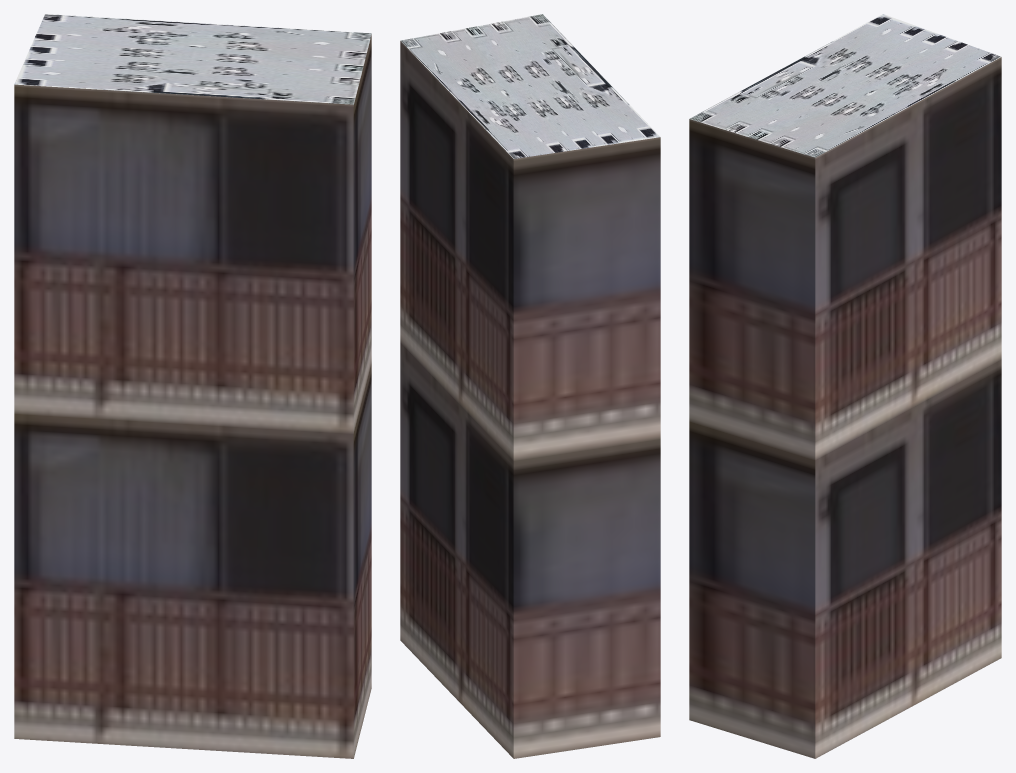
The model's file is ResTex__2458.fbx.
The picture shows the model from 3 angles, left to right: view 1: azimuth 30°, elevation 25°; view 2: azimuth 150°, elevation 25°; view 3: azimuth 270°, elevation 25°; orthographic projection. The views are drawn at different scales.
Parts seen in each view (by area): view 1: CityEngineMaterial_6_m, CityEngineMaterial_2_m; view 2: CityEngineMaterial_6_m, CityEngineMaterial_2_m; view 3: CityEngineMaterial_6_m, CityEngineMaterial_2_m.
Part boxes in pixels (x1=…): CityEngineMaterial_6_m: x1=14, y1=35, x2=371, y2=758; CityEngineMaterial_2_m: x1=14, y1=14, x2=371, y2=104; CityEngineMaterial_6_m: x1=400, y1=41, x2=660, y2=758; CityEngineMaterial_2_m: x1=401, y1=14, x2=660, y2=158; CityEngineMaterial_6_m: x1=689, y1=57, x2=1001, y2=758; CityEngineMaterial_2_m: x1=689, y1=14, x2=1001, y2=157.
Bounding box in the file's own units: 3.08 × 6 × 2.83.
Materials: 2 (2 with a texture image).
